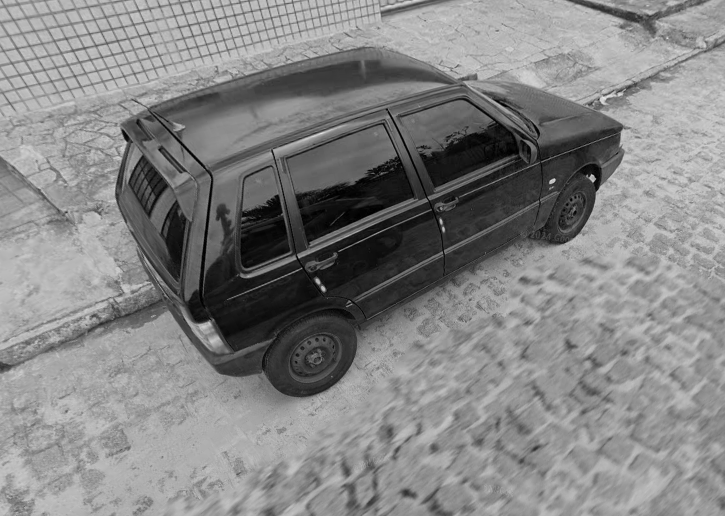car: (112, 39, 629, 406)
